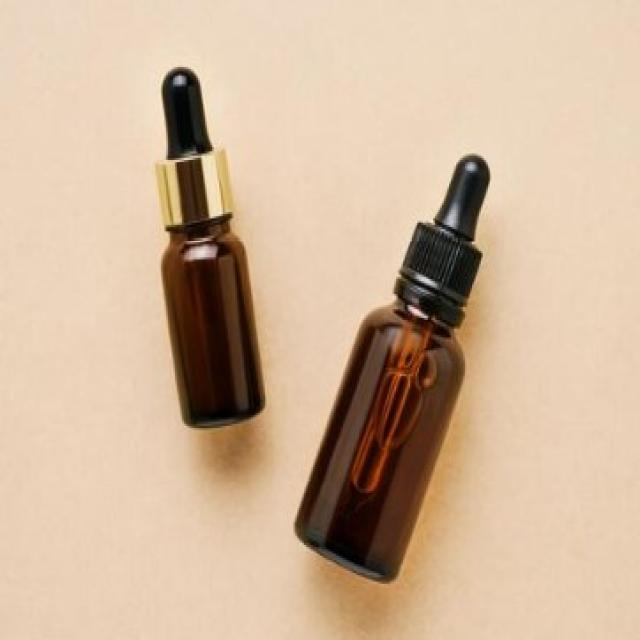electronic: (153, 61, 489, 591)
